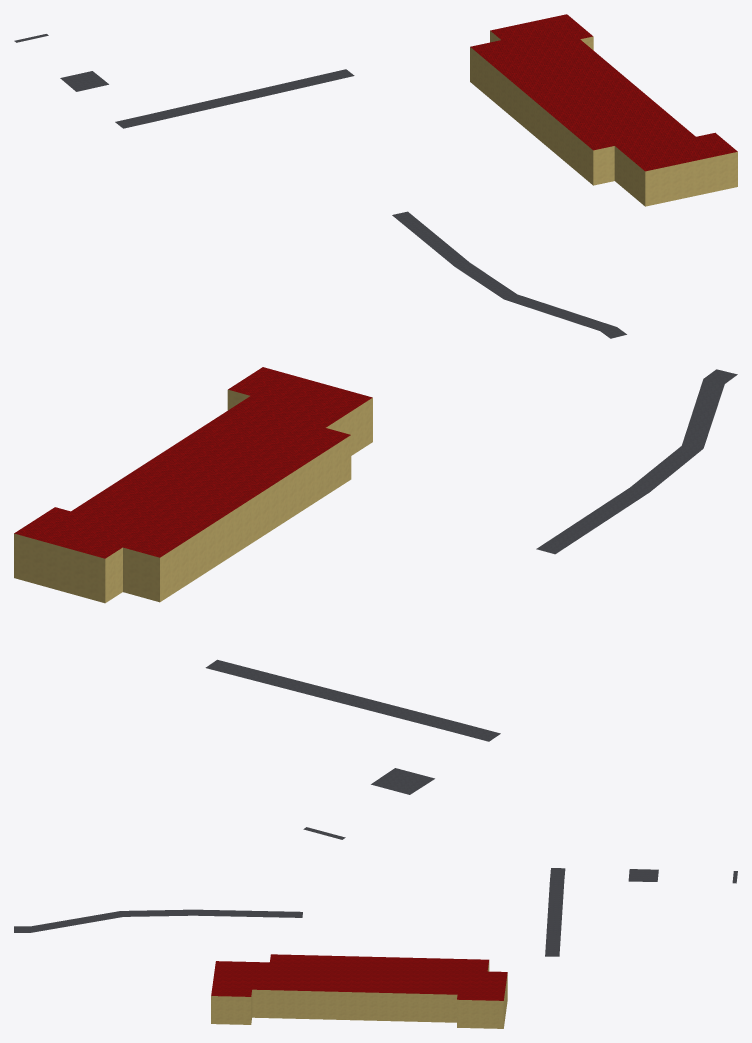
The model's file is district_2_-1.glb.
3 views of the same model, one above another, from view 1: azimuth 30°, elevation 25°; view 2: azimuth 150°, elevation 25°; view 3: azimuth 270°, elevation 25° (orthographic). The views are drawn at different scales.
Parts seen in each view (by area): view 1: Building w776839290, Road w1057705628, Road w1057705629, RoadJunction n498692075; view 2: Building w776839290, Road w1057705628, Road w1057705629, RoadJunction n498692075; view 3: Building w776839290, Road w1057705628, Road w1057705629, RoadJunction n498692075.
Part boxes in pixels (x1=…): Building w776839290: x1=470, y1=14, x2=737, y2=206; Road w1057705628: x1=392, y1=211, x2=610, y2=330; Road w1057705629: x1=147, y1=69, x2=354, y2=121; RoadJunction n498692075: x1=60, y1=71, x2=108, y2=91; Building w776839290: x1=14, y1=367, x2=372, y2=603; Road w1057705628: x1=536, y1=382, x2=724, y2=554; Road w1057705629: x1=205, y1=659, x2=460, y2=731; RoadJunction n498692075: x1=371, y1=768, x2=434, y2=794; Building w776839290: x1=211, y1=954, x2=507, y2=1028; Road w1057705628: x1=31, y1=909, x2=302, y2=931; Road w1057705629: x1=545, y1=880, x2=564, y2=956; RoadJunction n498692075: x1=628, y1=869, x2=658, y2=881.
Bounding box in the file's own units: 92.32 × 7.5 × 175.
Materials: 3 (3 with a texture image).
